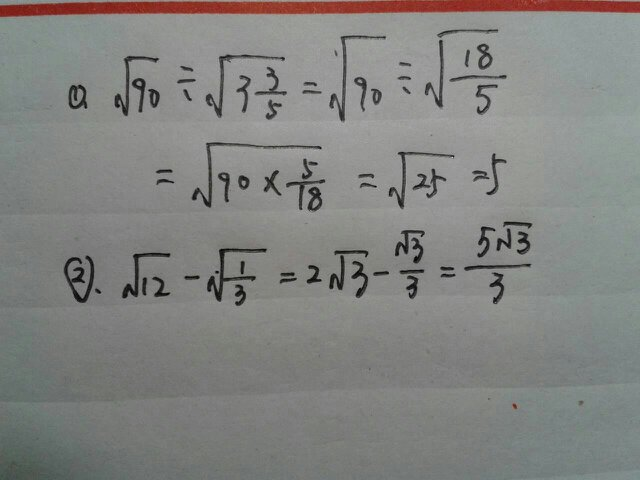division: (448, 75, 509, 86), (461, 264, 534, 273), (394, 265, 434, 280), (285, 175, 329, 188), (219, 273, 257, 285), (256, 89, 289, 97)
sqrt: (191, 141, 324, 214), (328, 20, 407, 125), (432, 26, 505, 118), (205, 44, 294, 119), (373, 146, 466, 210), (204, 245, 269, 313), (121, 246, 175, 307), (109, 55, 163, 116), (323, 248, 373, 296), (490, 213, 537, 261), (393, 223, 431, 266)
